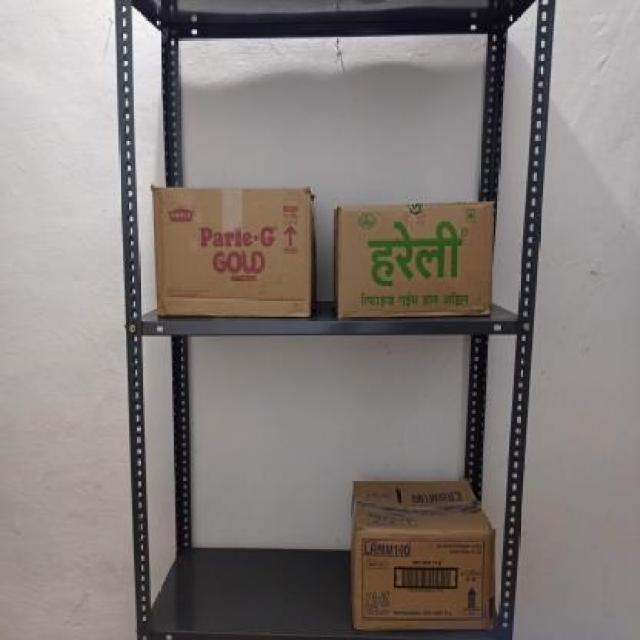box: (150, 187, 316, 321), (332, 204, 494, 318), (352, 528, 494, 628)
